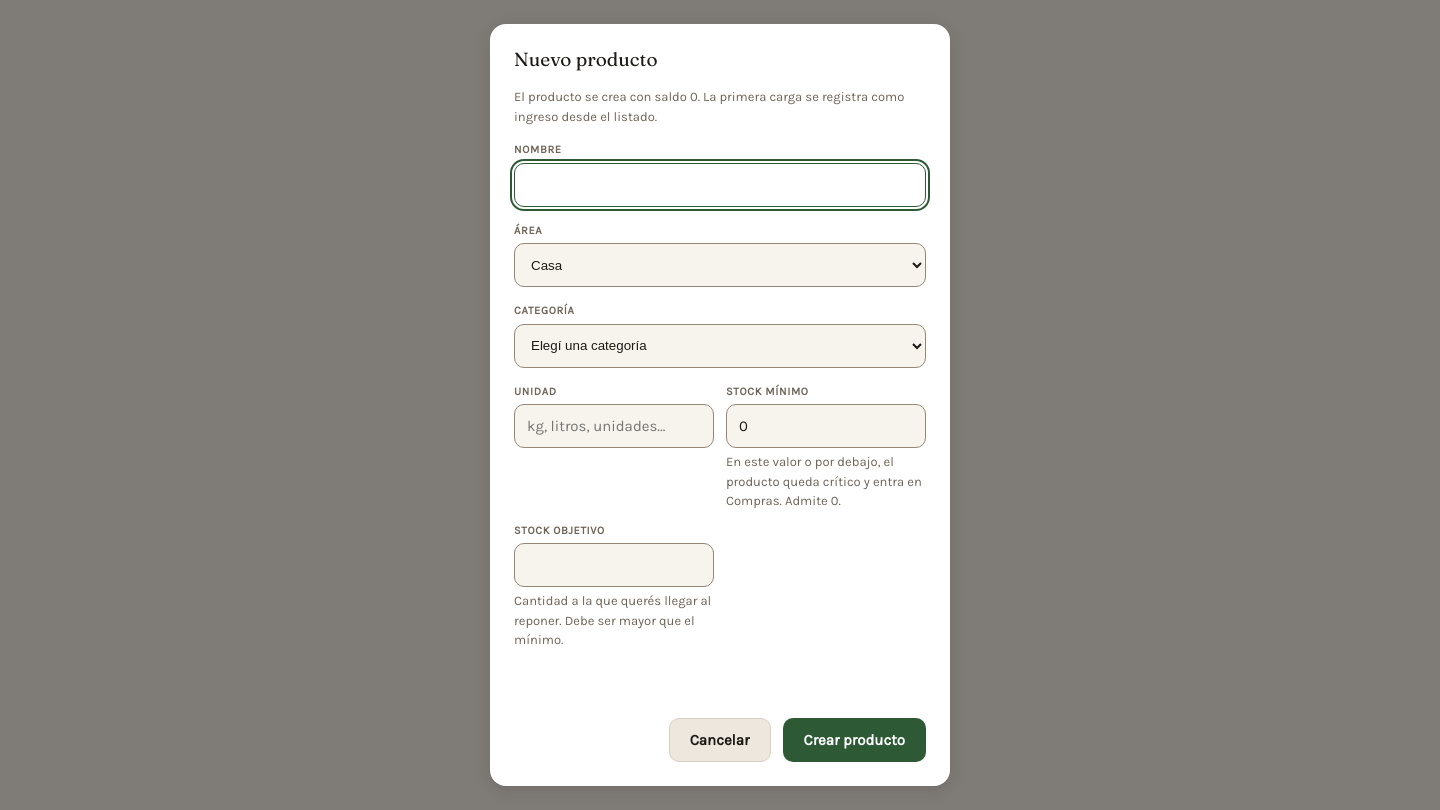
Test case: ItemFormDialog — contrato de escritura › rechaza el stock mínimo ambiguo -1
Type "Producto válido" into the field labelled "Nombre" at (720, 185), box [514,163,926,207]
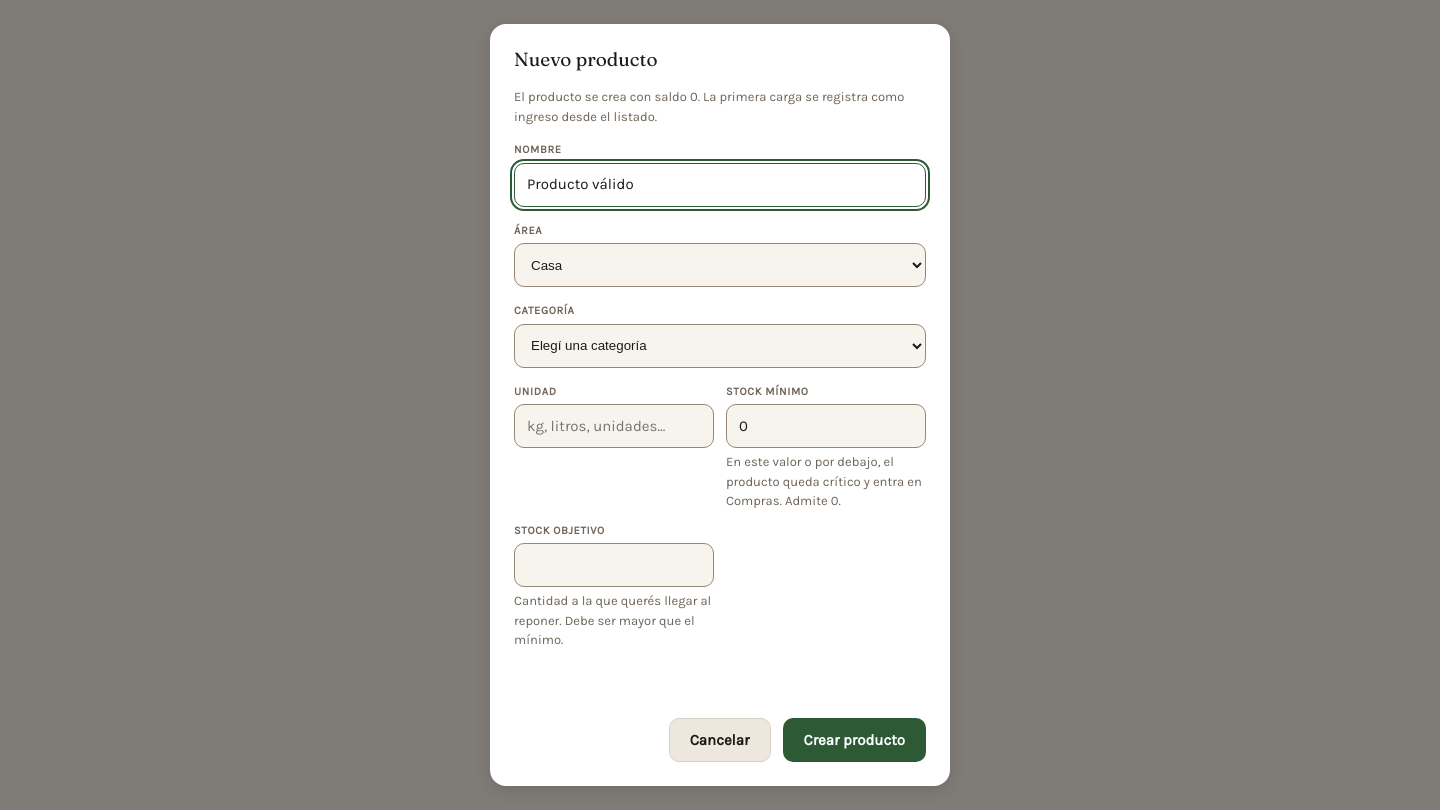
Select "Categoría sintética Casa" in the dropdown labelled "Categoría" at (720, 346), box [514,324,926,368]
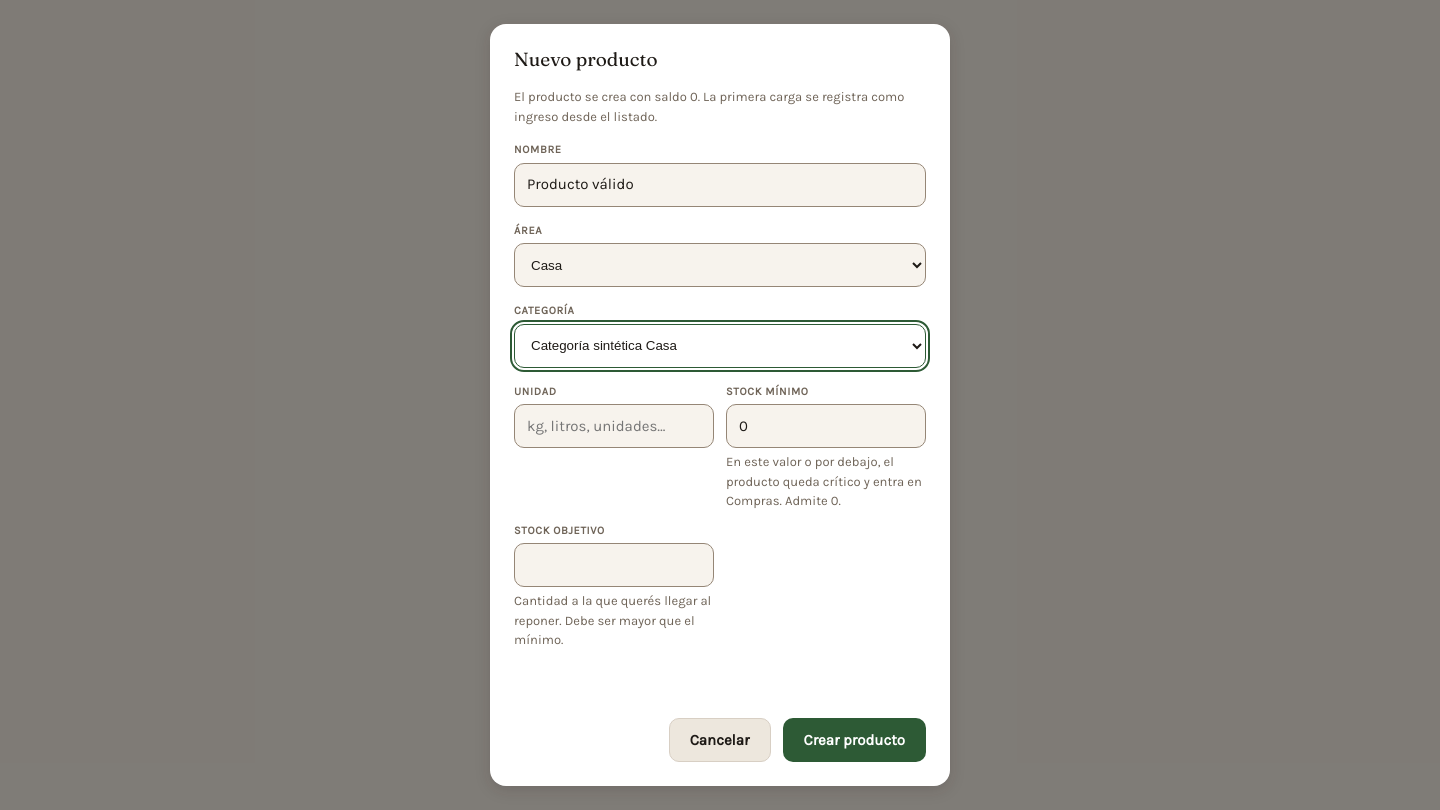
Type "kg" into the field labelled "Unidad" at (614, 426), box [514,404,714,448]
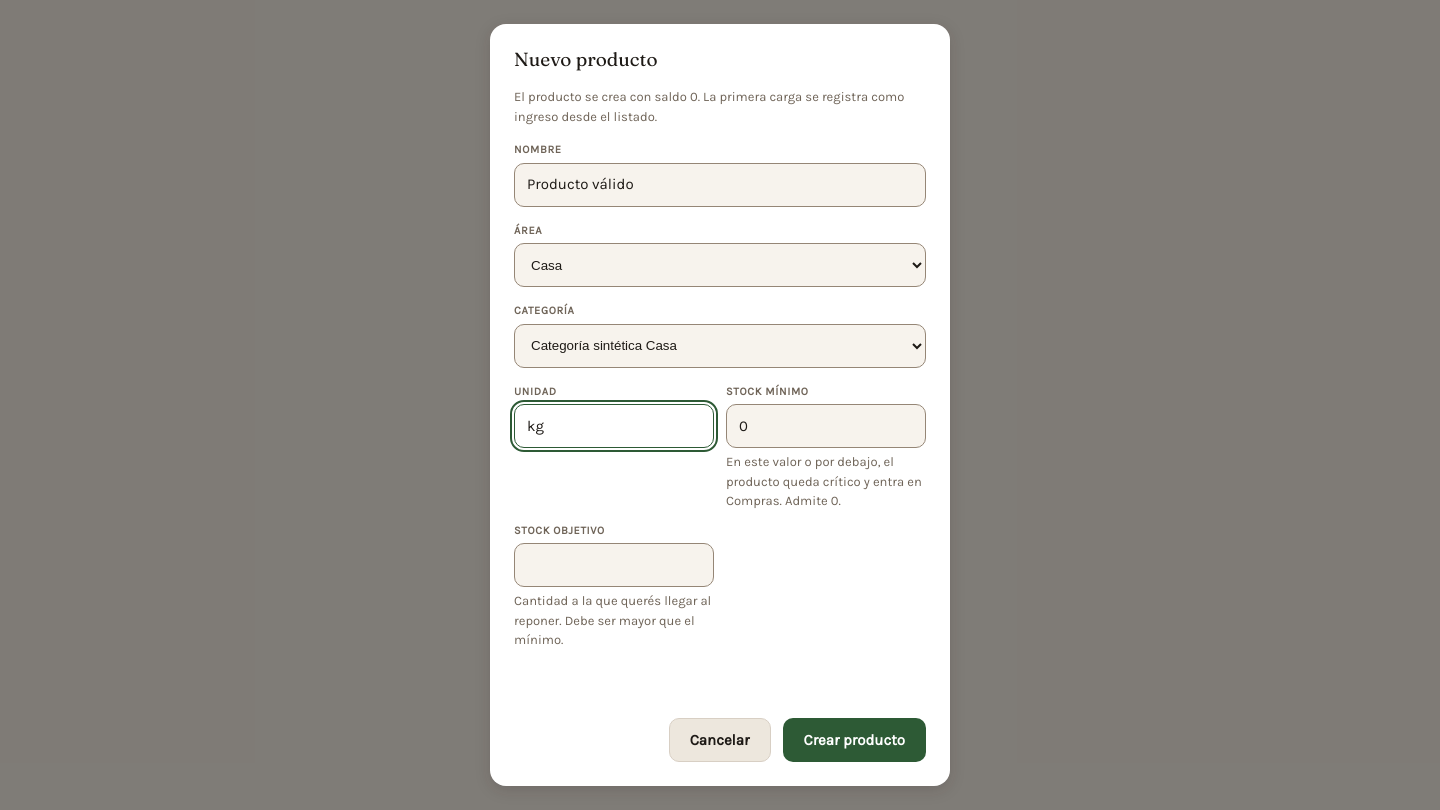
Replace the text in the field labelled "Stock mínimo" with "-1" at (826, 426), box [726,404,926,448]
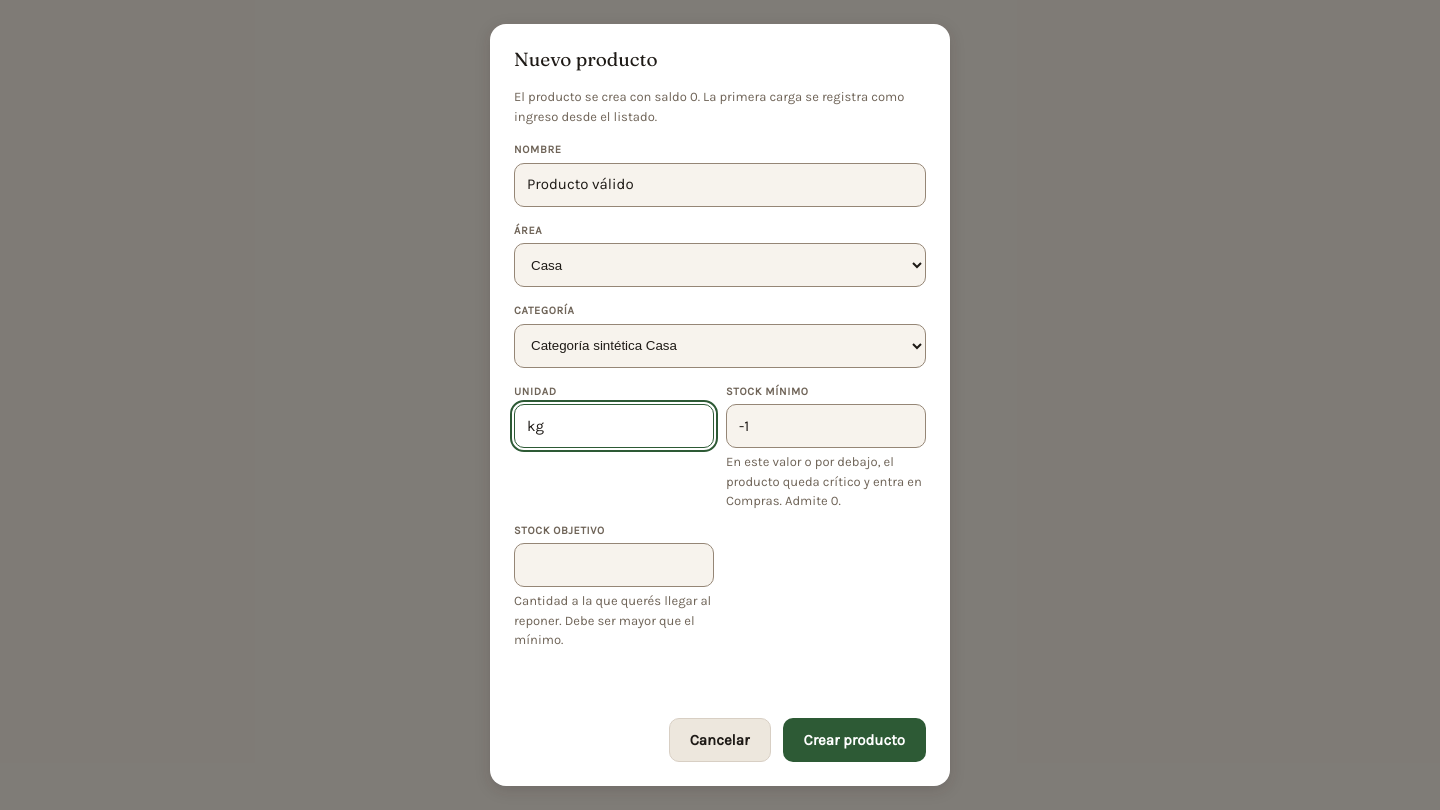
Click the button "Crear producto" at (854, 740), box [782,718,926,762]
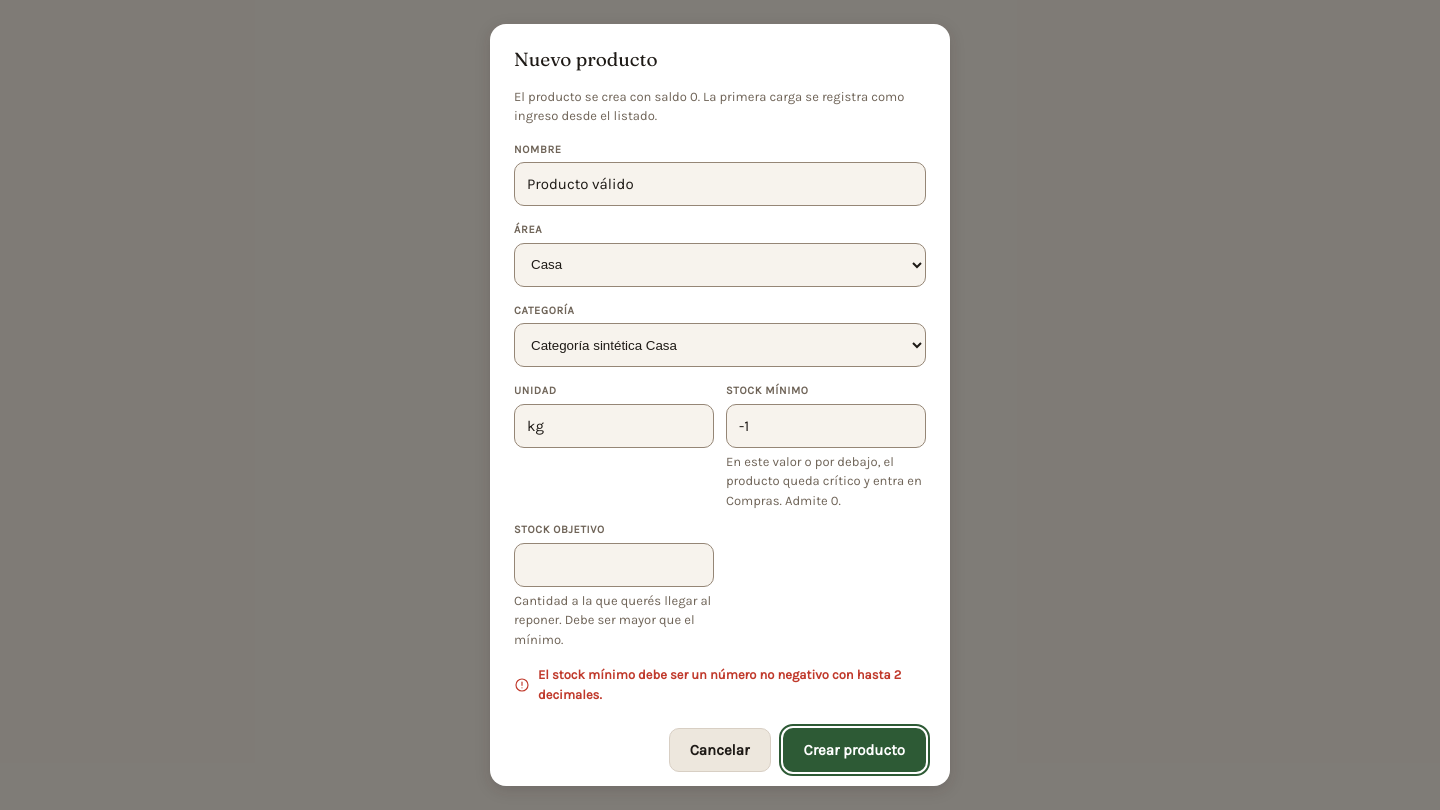
Check: the message shows "número no negativo", box [538,667,901,702]
